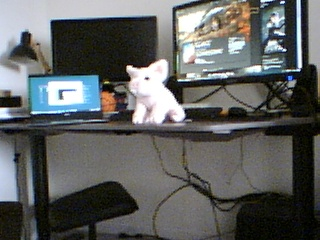piggy: (125, 58, 186, 127)
